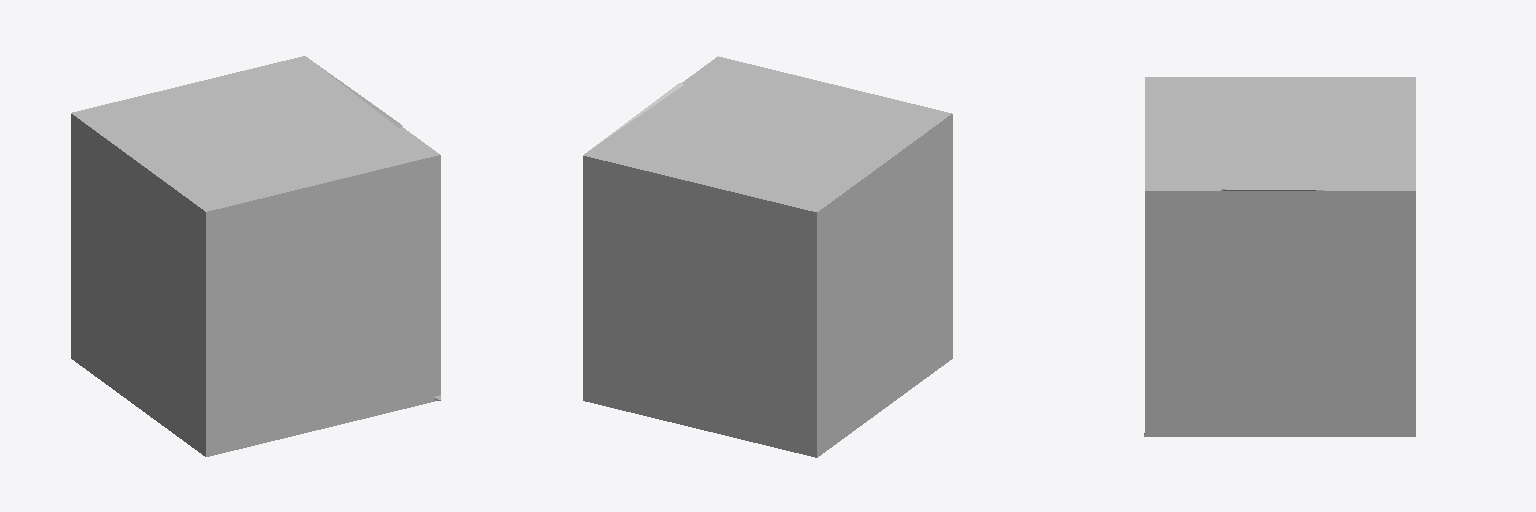
3 views of the same model, side by side, from view 1: azimuth 30°, elevation 25°; view 2: azimuth 150°, elevation 25°; view 3: azimuth 270°, elevation 25° (orthographic).
Visible parts, largest first — view 1: HITBOX_MODEL_Cube.002; view 2: HITBOX_MODEL_Cube.002; view 3: HITBOX_MODEL_Cube.002.
Boxes of the visible parts, x1,y1,x2,y2 form: HITBOX_MODEL_Cube.002: [71, 56, 440, 456]; HITBOX_MODEL_Cube.002: [583, 56, 952, 457]; HITBOX_MODEL_Cube.002: [1145, 77, 1415, 436].
Size of the model in its own units: 2 by 2.02 by 2.01.